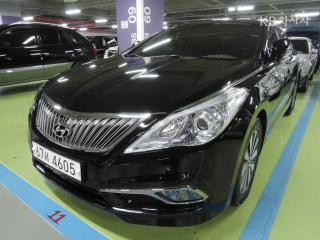0: (63, 159, 69, 172)
4: (52, 154, 58, 167)
5: (69, 162, 76, 176)
6: (57, 158, 63, 170), (35, 145, 40, 156)
7: (40, 147, 44, 160)
plate: (28, 136, 86, 186)
서: (44, 151, 51, 162)
